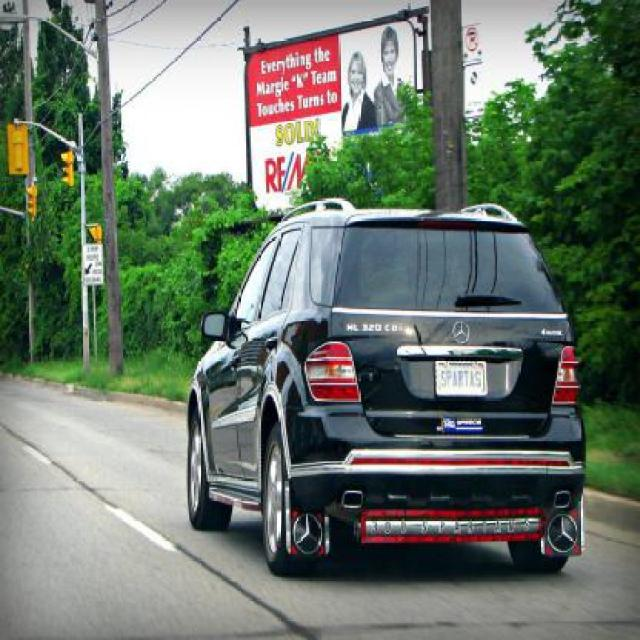License-Plates: (434, 354, 490, 397)
